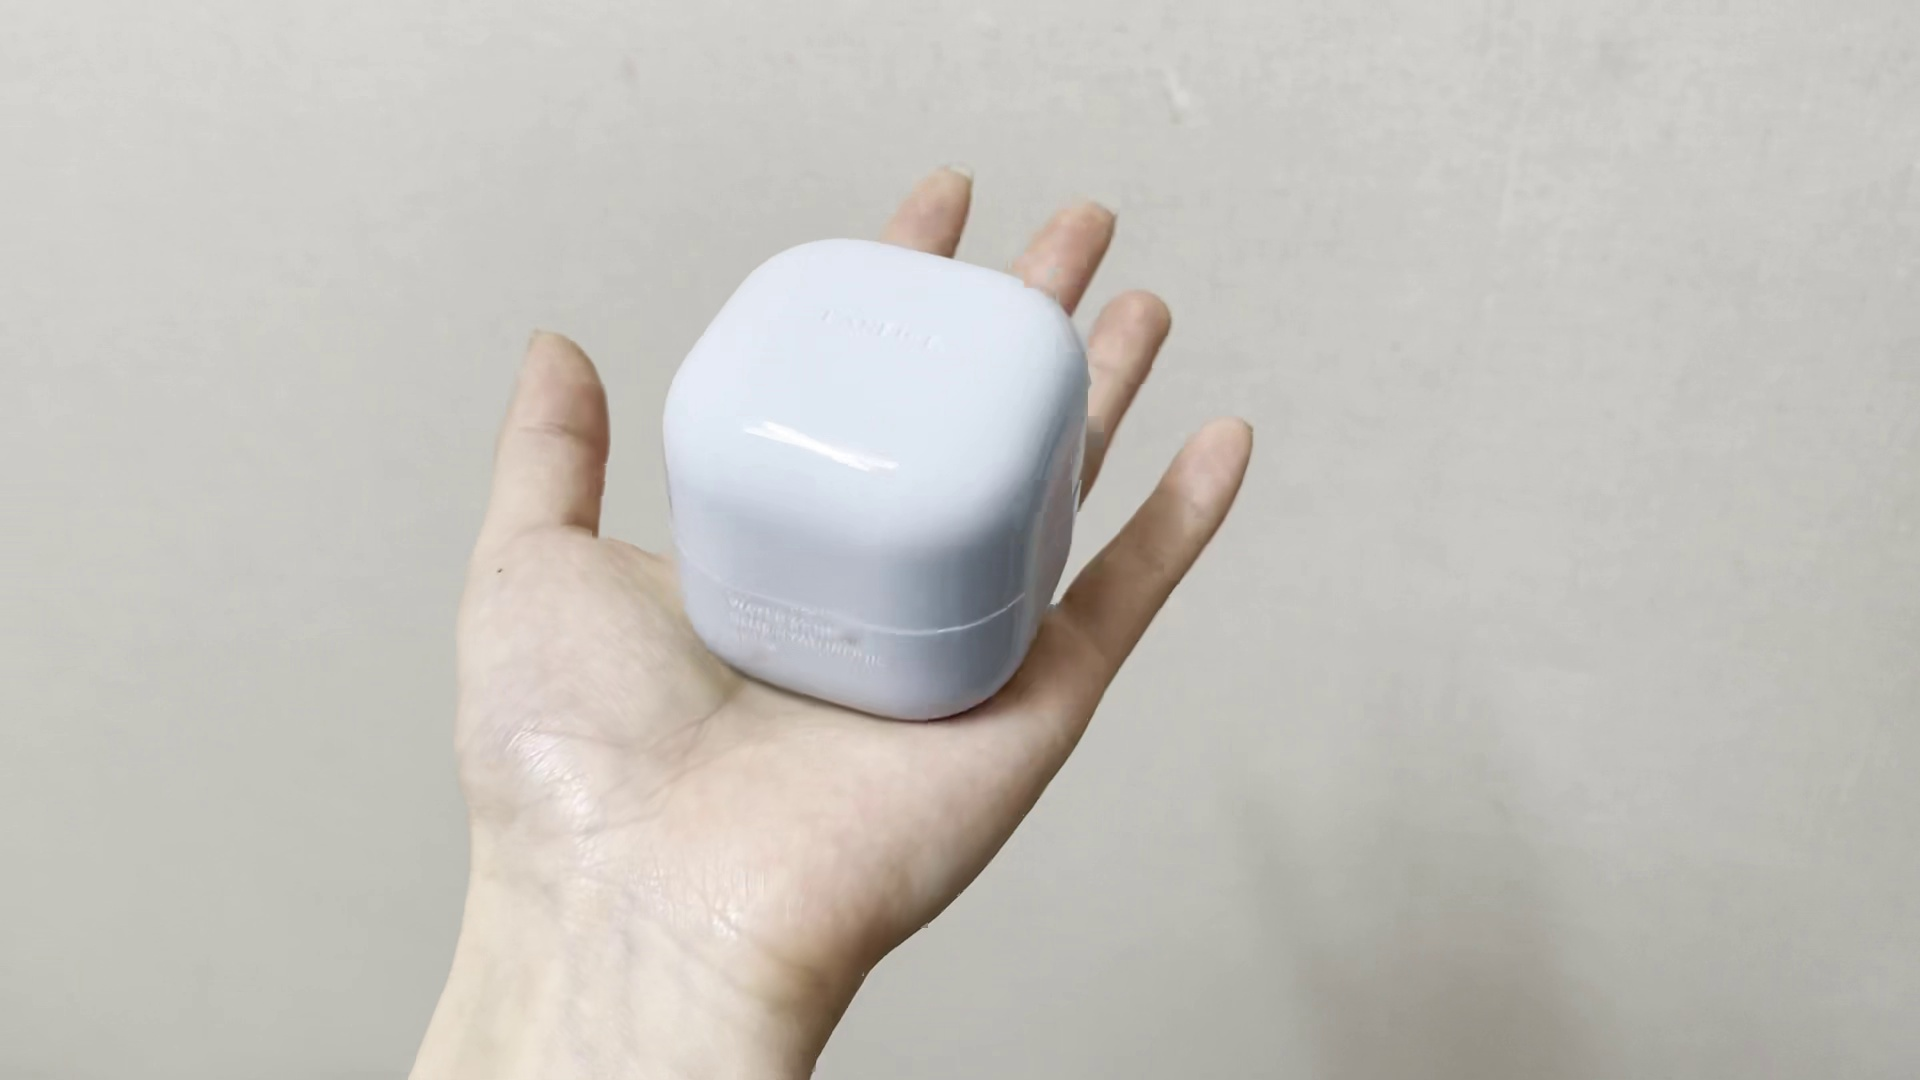cream: (670, 233, 1092, 728)
